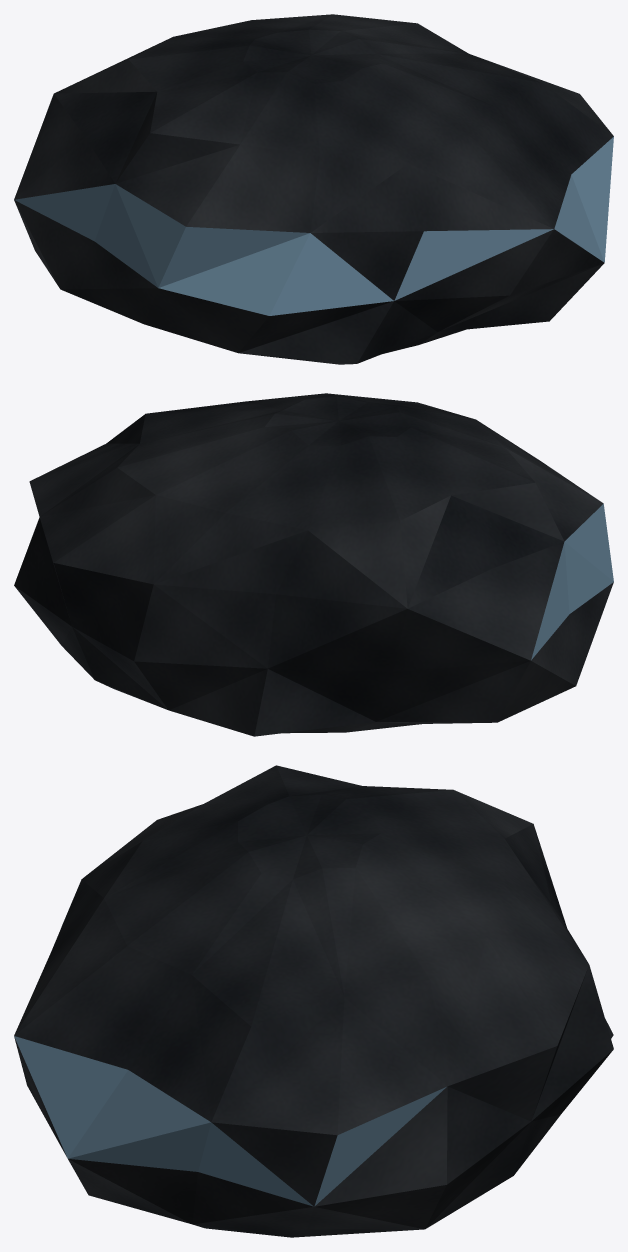
File: SuperdenseStoneA.fbx
The picture shows the model from 3 angles, top to bottom: view 1: azimuth 30°, elevation 25°; view 2: azimuth 150°, elevation 25°; view 3: azimuth 270°, elevation 25°; orthographic projection. The views are drawn at different scales.
Visible parts, largest first — view 1: Superdense_Loose_A_LOD0; view 2: Superdense_Loose_A_LOD0; view 3: Superdense_Loose_A_LOD0.
Part boxes in pixels (x1,y1,x2,y2): Superdense_Loose_A_LOD0: [14, 14, 613, 364]; Superdense_Loose_A_LOD0: [14, 393, 613, 736]; Superdense_Loose_A_LOD0: [14, 765, 613, 1237].
Size of what is drawn, in the model's own units: 16872 by 8110 by 14239.
